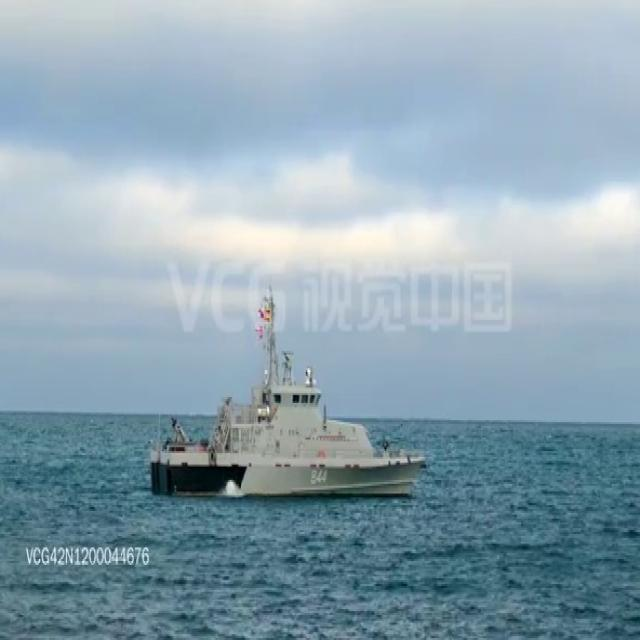houseboat: (148, 293, 421, 499)
